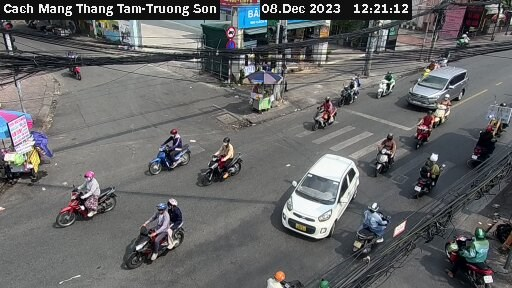car: (281, 153, 351, 241), (409, 62, 479, 111)
motorbike: (113, 201, 204, 264), (442, 219, 503, 281), (49, 175, 126, 221), (348, 203, 399, 257), (192, 141, 247, 184), (460, 119, 505, 168), (145, 129, 195, 172), (409, 149, 452, 198), (367, 129, 406, 173), (303, 94, 344, 131), (371, 66, 407, 100), (331, 73, 369, 104), (410, 113, 437, 146), (427, 97, 456, 126)
